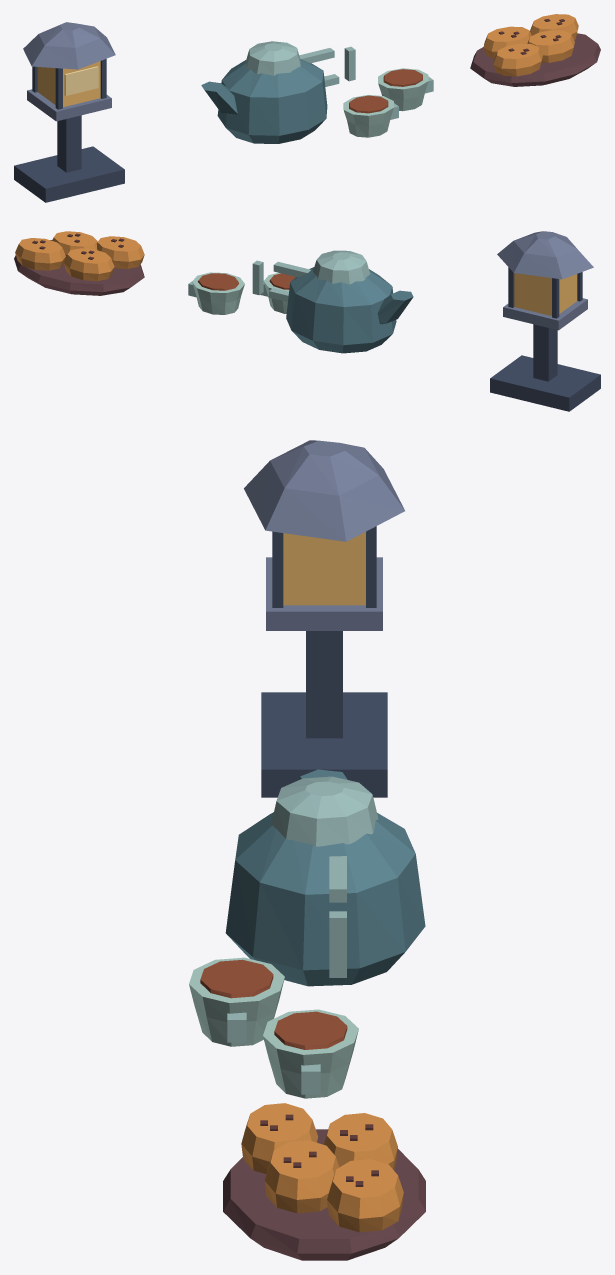
File: nod-lantern-patrol-model.obj
The picture shows the model from 3 angles, top to bottom: view 1: azimuth 30°, elevation 25°; view 2: azimuth 150°, elevation 25°; view 3: azimuth 270°, elevation 25°; orthographic projection. The views are drawn at different scales.
Visible parts, largest first — view 1: CoastalWatch; view 2: CoastalWatch; view 3: CoastalWatch.
Boxes of the visible parts, x1=… form: CoastalWatch: x1=14, y1=14, x2=600, y2=202; CoastalWatch: x1=14, y1=231, x2=600, y2=411; CoastalWatch: x1=189, y1=440, x2=425, y2=1260.
Size of the model in its own units: 6.74 by 1.76 by 1.22.
